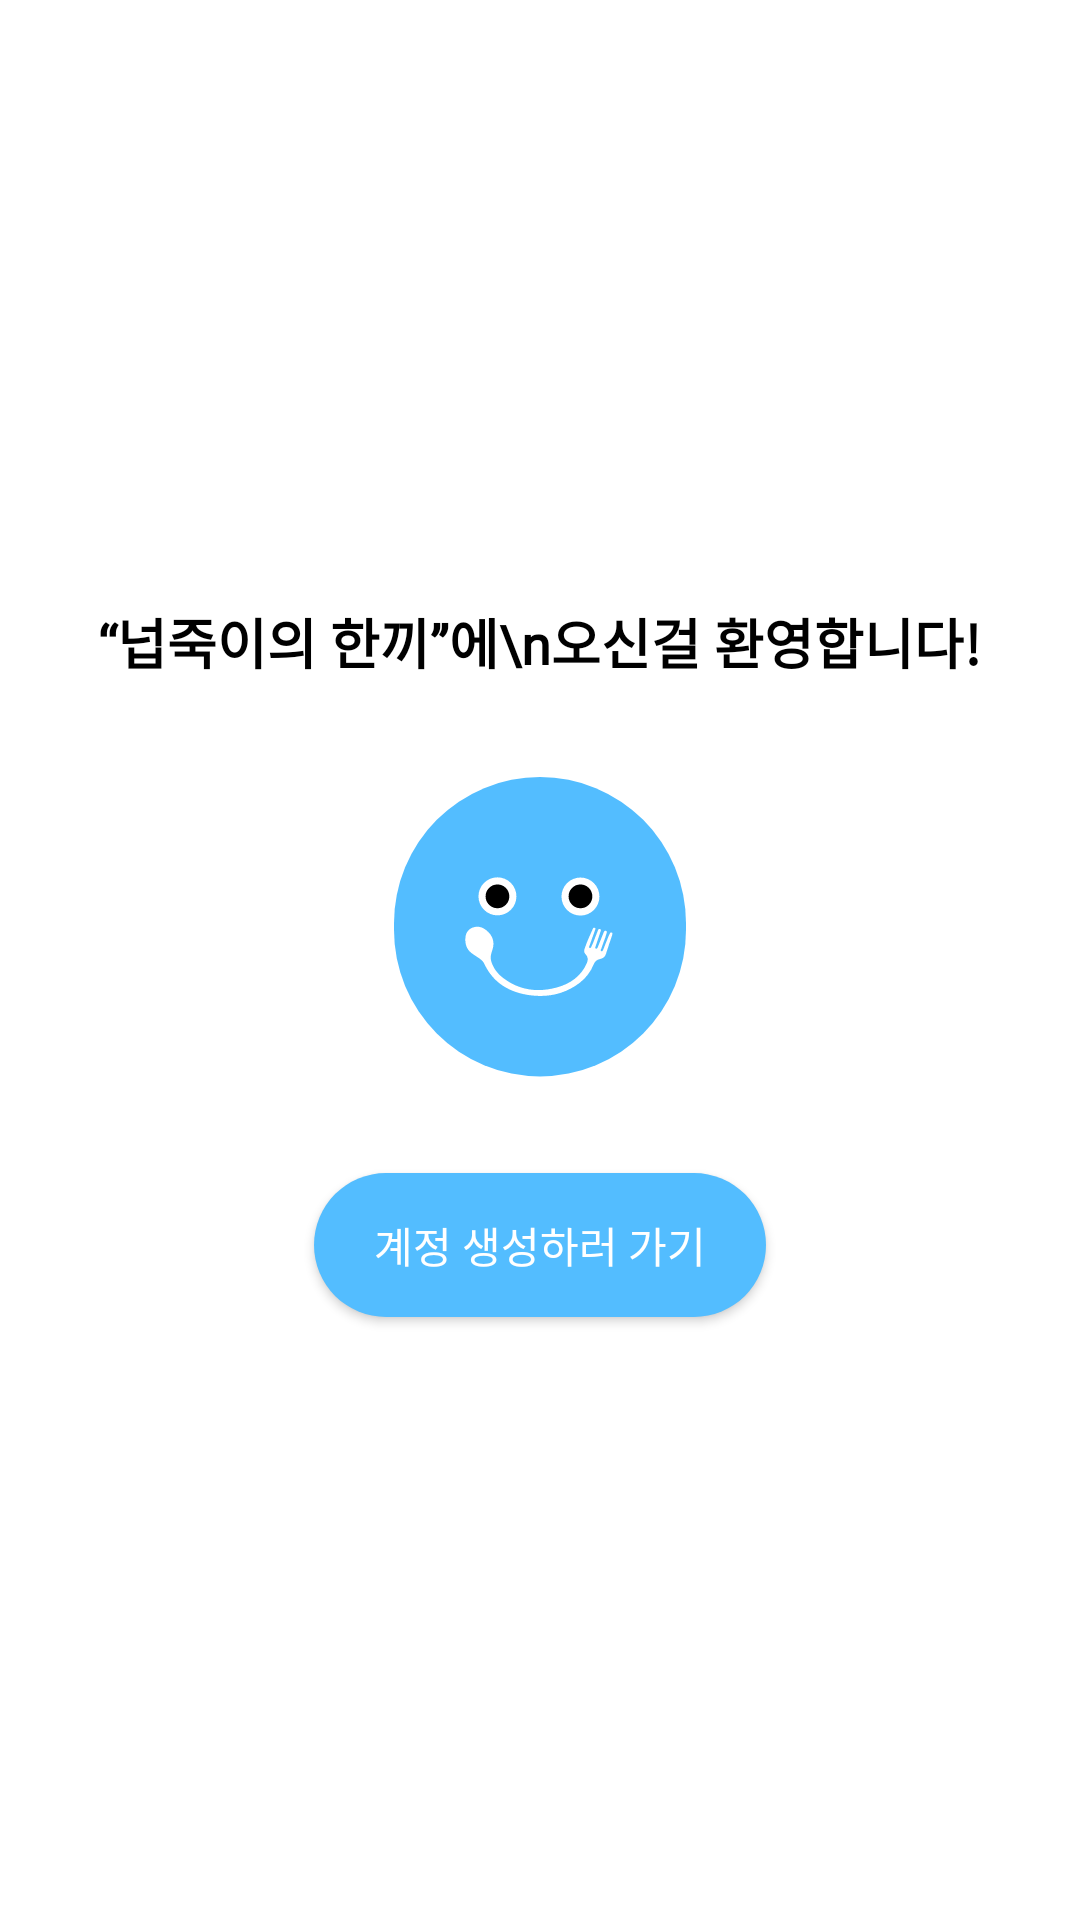

Icons on this 1080x1920 Android screen, each with its box as (x1, y1, x2, y2):
smile: (394, 777, 686, 1077)
